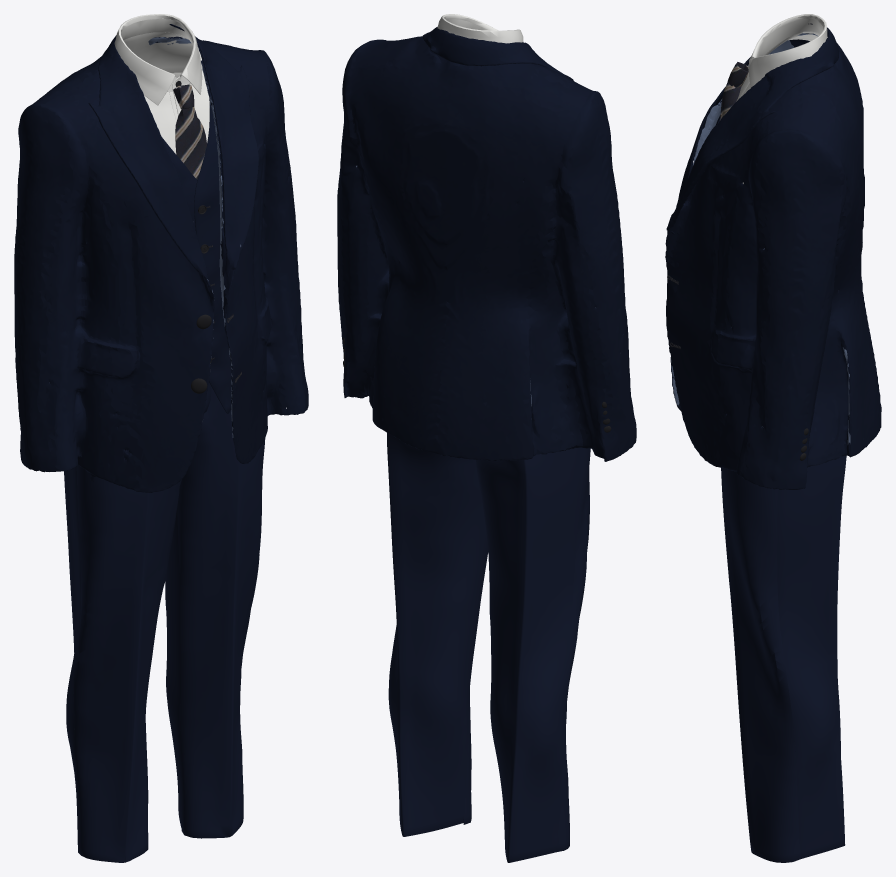
Rendered from MW_Tailleur_suit_v5_REBUILD_peak.glb.
3 views of the same model, side by side, from view 1: azimuth 30°, elevation 25°; view 2: azimuth 150°, elevation 25°; view 3: azimuth 270°, elevation 25° (orthographic). The views are drawn at different scales.
Parts seen in each view (by area): view 1: Jacket, Trousers, Shirt, Waistcoat, Tie, Trim; view 2: Jacket, Trousers, Shirt; view 3: Jacket, Trousers, Shirt, Tie.
Part boxes in pixels (x1=…): Jacket: x1=14, y1=24, x2=308, y2=492; Trousers: x1=64, y1=382, x2=265, y2=862; Shirt: x1=114, y1=14, x2=209, y2=154; Waistcoat: x1=86, y1=45, x2=255, y2=413; Tie: x1=173, y1=84, x2=206, y2=179; Trim: x1=20, y1=81, x2=211, y2=429; Jacket: x1=337, y1=27, x2=636, y2=461; Trousers: x1=387, y1=433, x2=590, y2=862; Shirt: x1=437, y1=14, x2=523, y2=43; Jacket: x1=665, y1=23, x2=881, y2=489; Trousers: x1=721, y1=455, x2=846, y2=862; Shirt: x1=736, y1=14, x2=827, y2=183; Tie: x1=720, y1=62, x2=748, y2=120.
Size of the model in its own units: 0.5383 by 1.5 by 0.3669.
9 materials, 4 textured.
